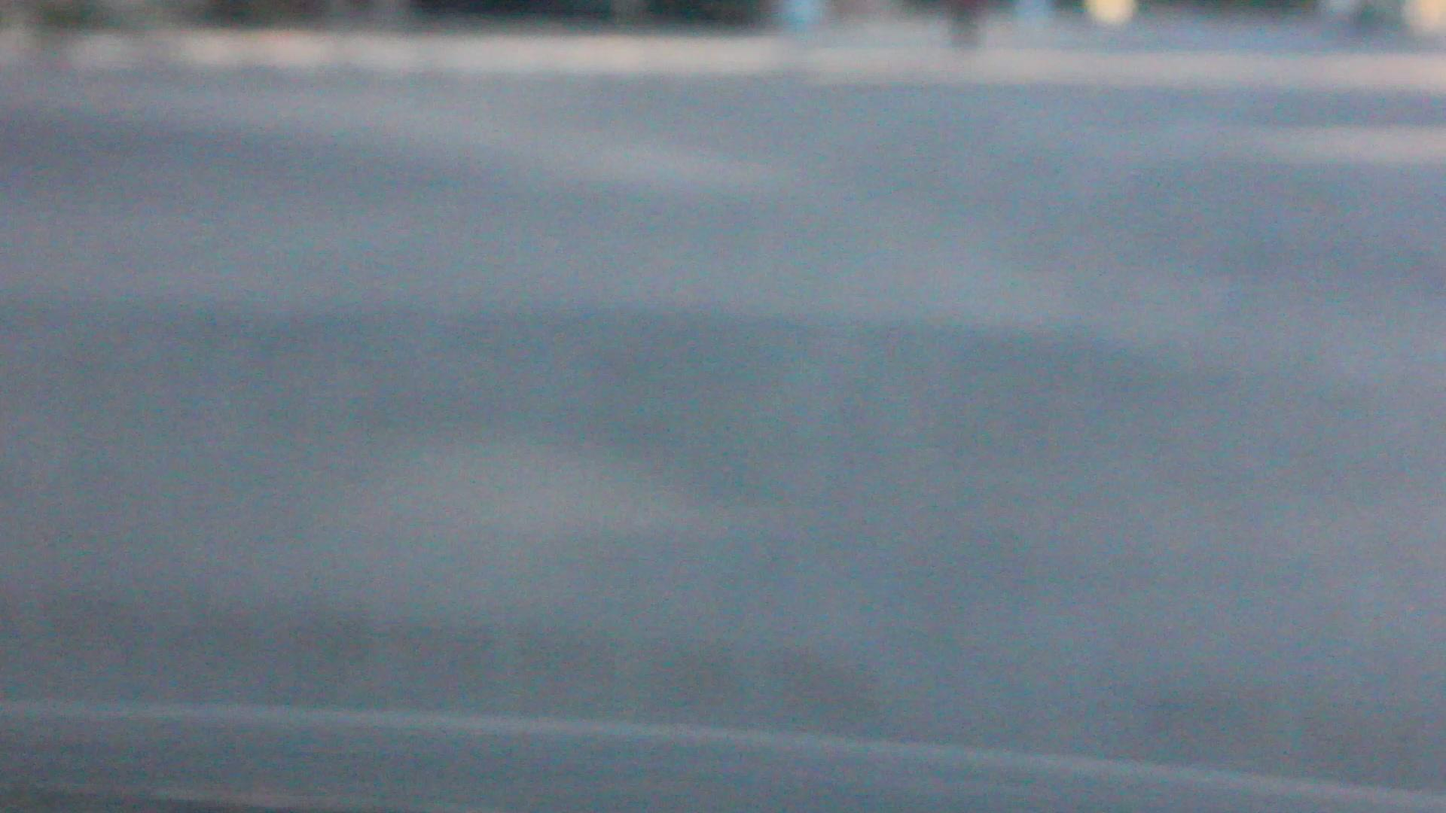Bump: (24, 243, 1446, 533)
